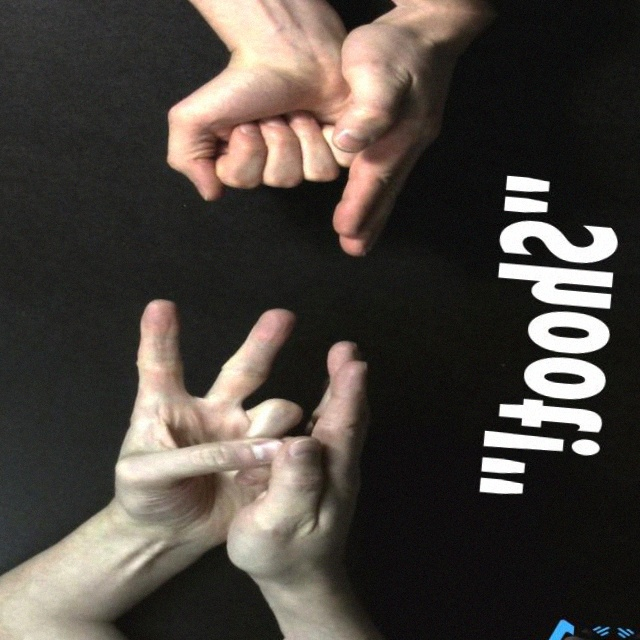Rock: (161, 47, 366, 216)
Scissors: (106, 295, 325, 555)
